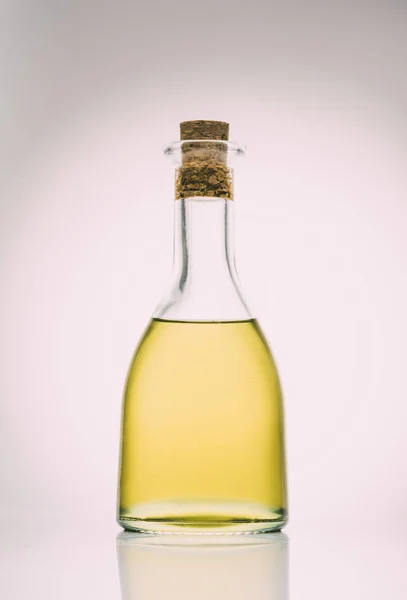glass_bottle: (98, 110, 322, 560)
